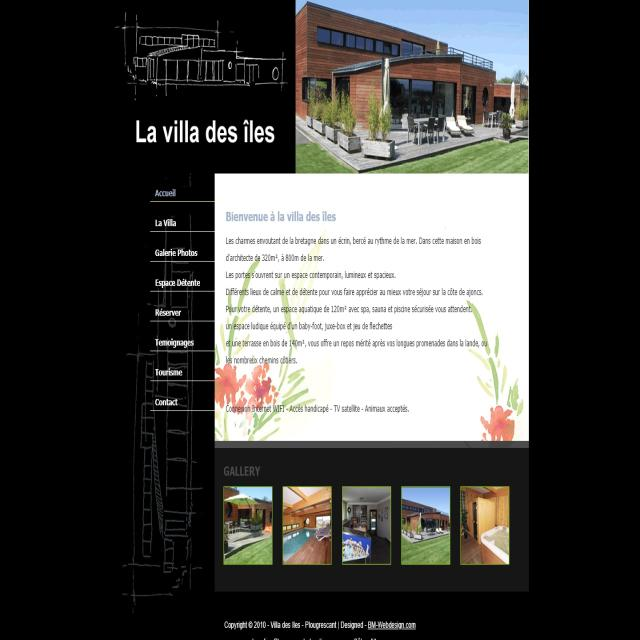button: (150, 266, 202, 291), (152, 325, 200, 350), (152, 356, 200, 381), (150, 237, 202, 260), (151, 298, 199, 321), (152, 386, 198, 409), (151, 175, 191, 201), (150, 206, 193, 230)
heading: (133, 112, 280, 156), (224, 205, 337, 228)
image: (216, 171, 528, 444), (106, 169, 209, 634), (297, 0, 528, 173), (106, 2, 294, 105), (400, 485, 453, 567), (460, 482, 510, 568), (281, 483, 332, 567), (223, 485, 274, 566), (342, 484, 391, 564)
text: (223, 229, 491, 367), (222, 401, 410, 417), (223, 621, 420, 635), (223, 462, 260, 478)
